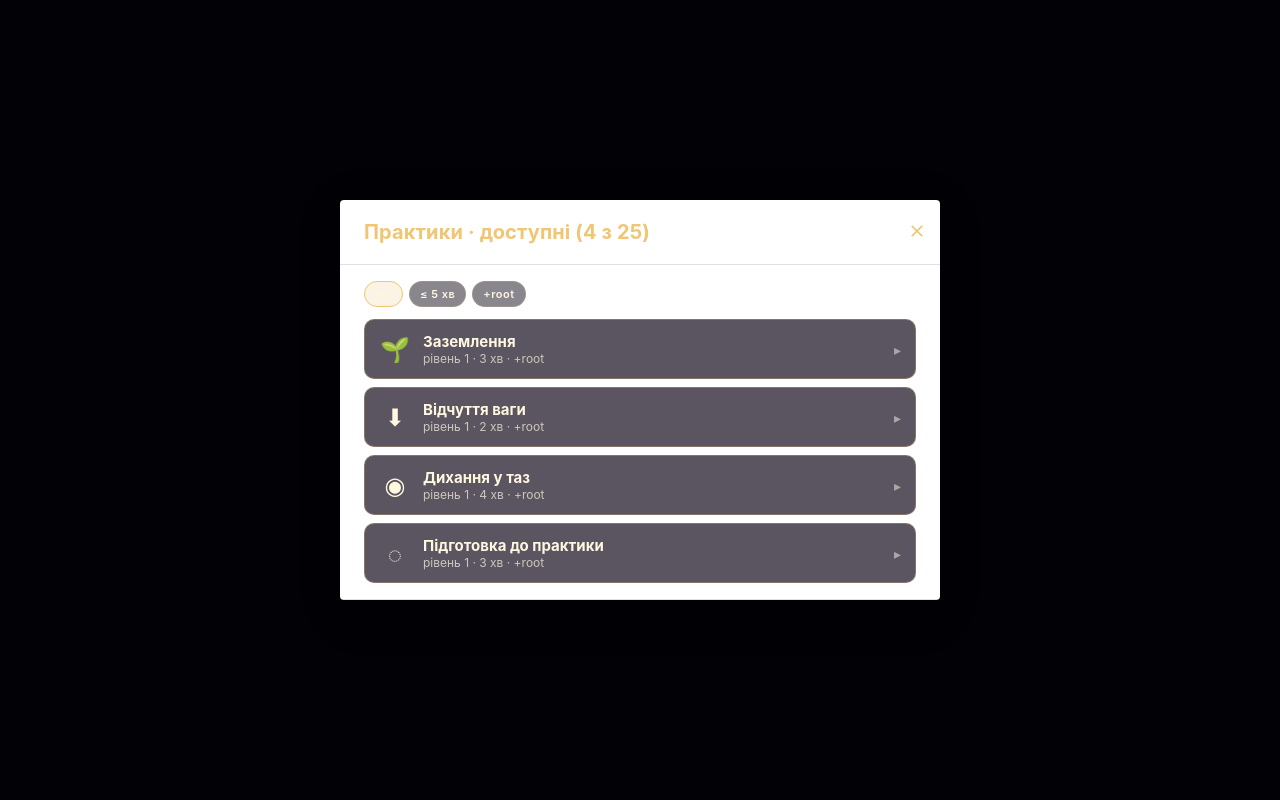
PracticesModal › intro phase «відмінити» returns to list
Step 1. Click the button "🌱 Заземлення рівень 1 · 3 хв · +root ▸" → (469, 342), box [364,319,916,379]
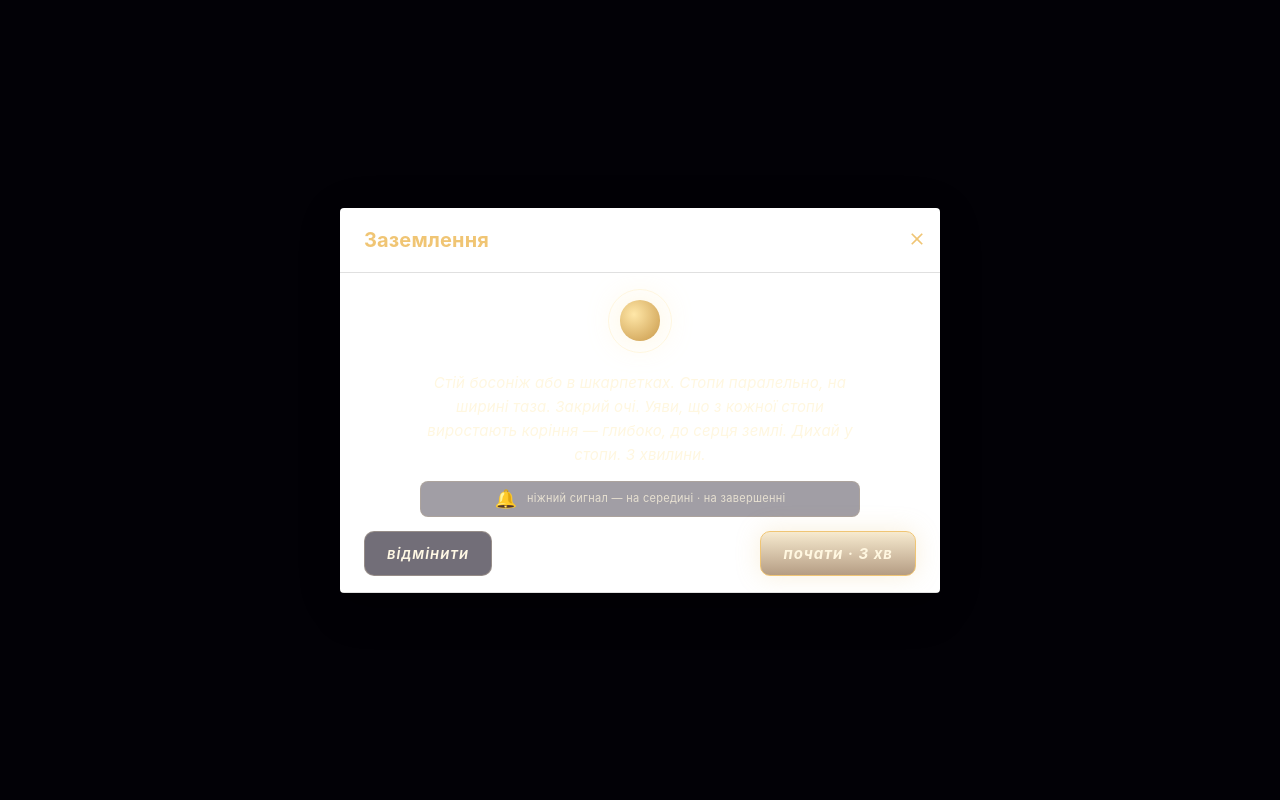
Step 2. Click the button "відмінити" → (428, 553), box [364,530,492,576]
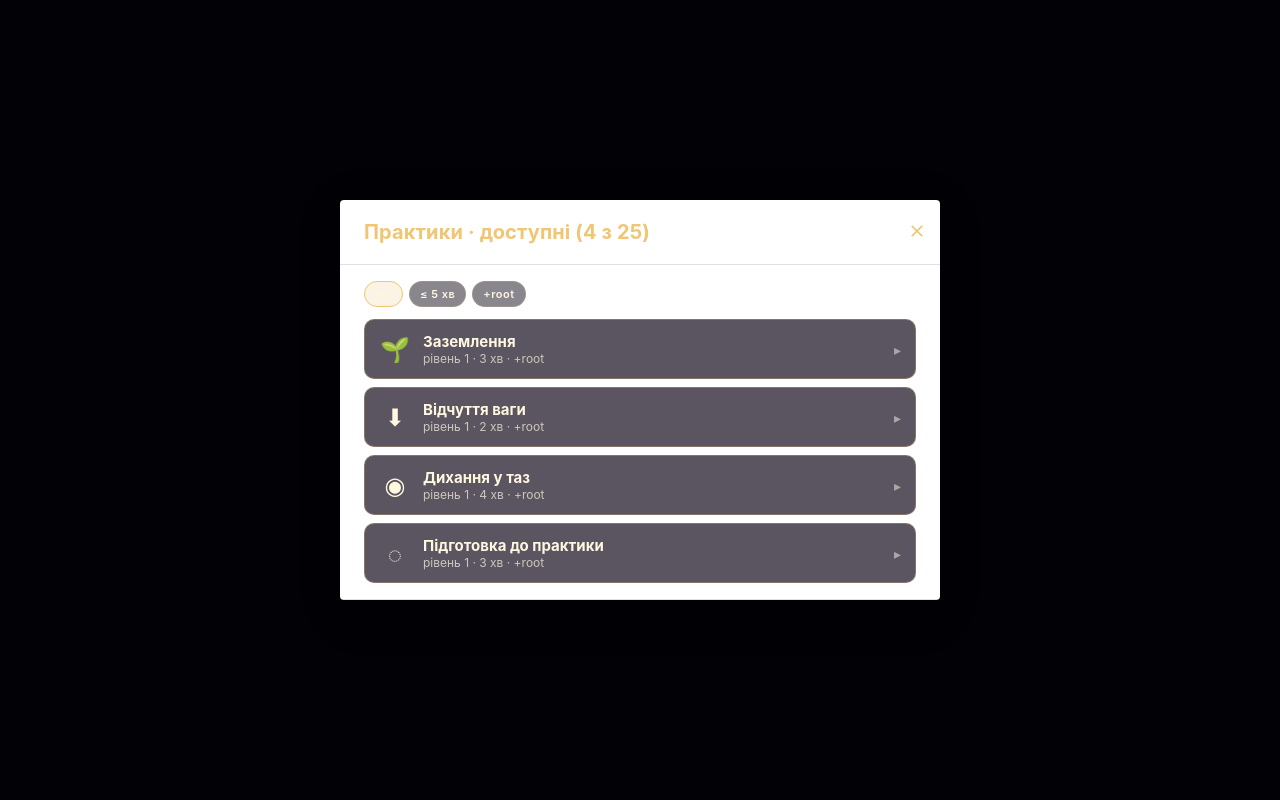
Result: the text "Практики · доступні (4 з 25)" is shown at [364,220,650,244]
